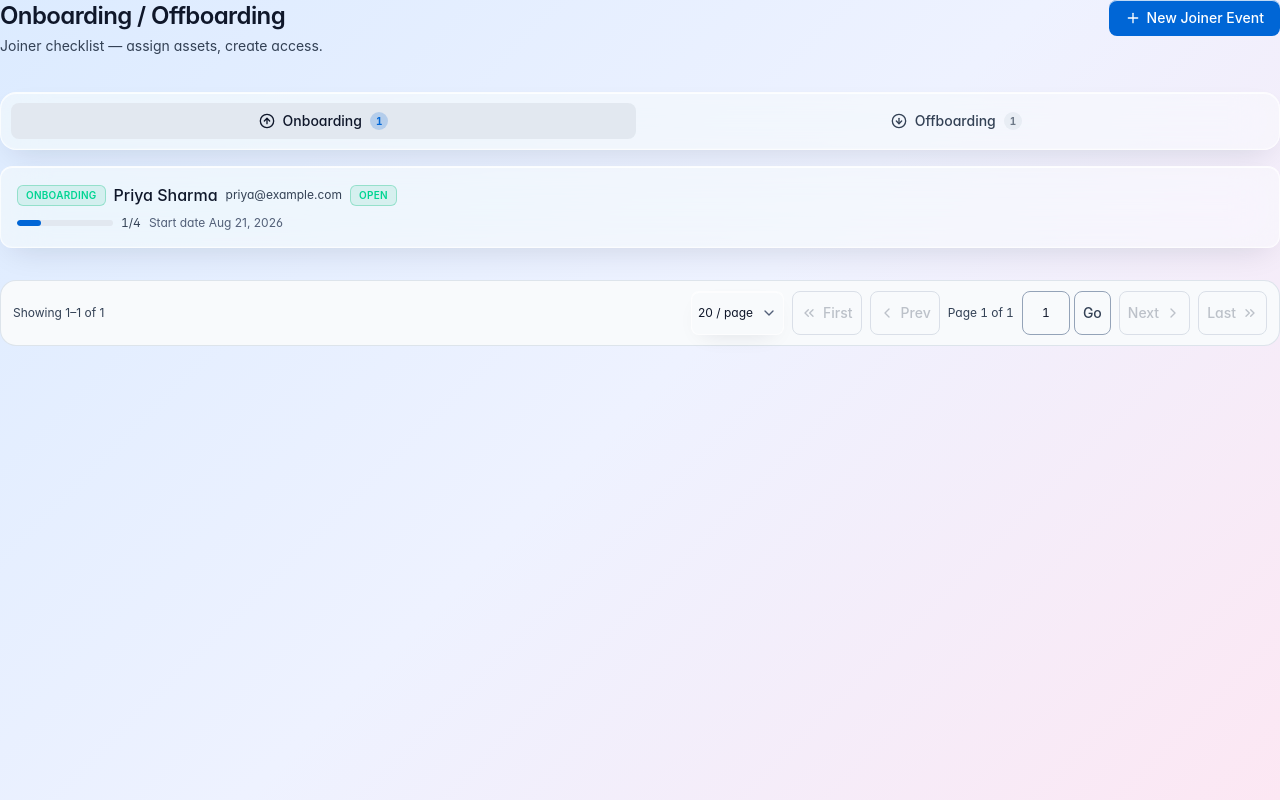
Test: Onboarding submit validation (FORM-02) › invalid email shows a format error and focuses email
The width and height of the screenshot is (1280, 800).
Expected: the button with test id "onboarding-card" is shown, [0,166,1279,248]
Step 1. Click the button "New Joiner Event" → coordinates (1194, 18), box [1109,0,1279,36]
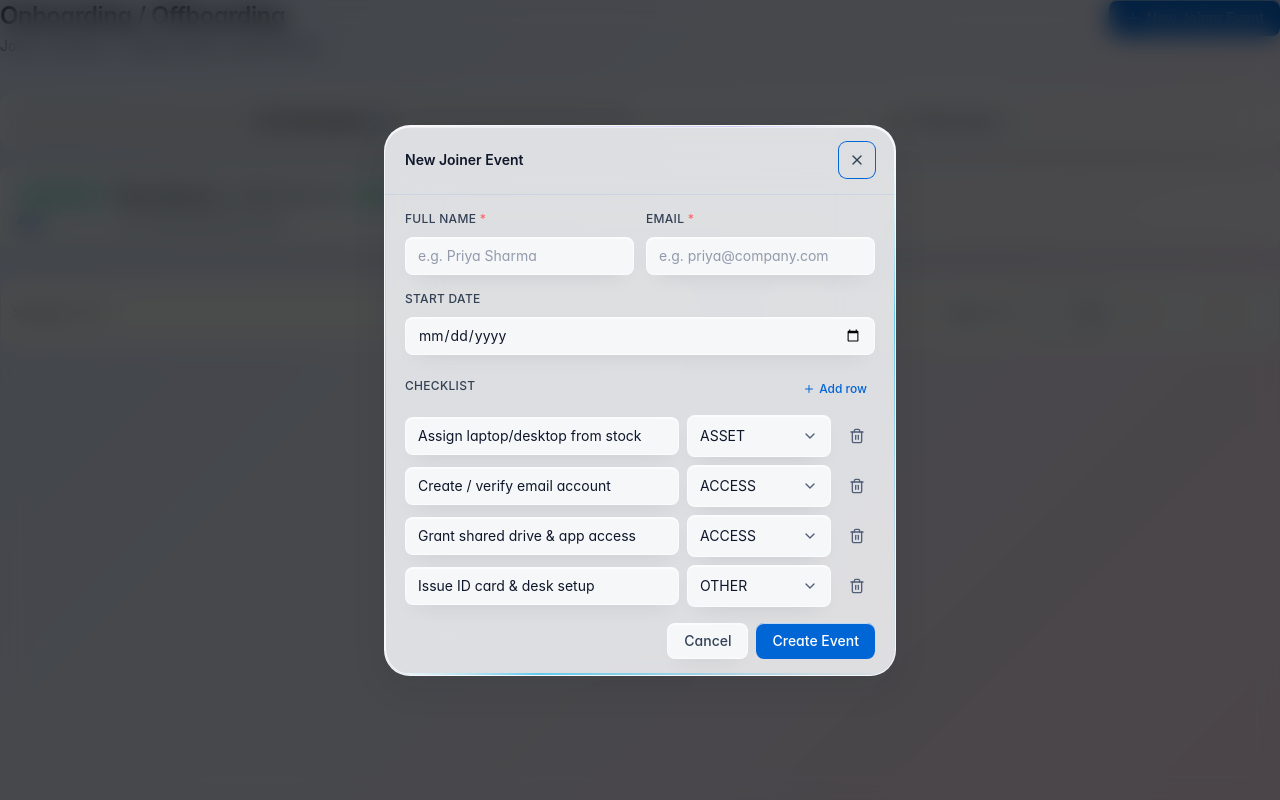
Expected: the text "Full name *" is shown, [405,210,486,226]
Step 2. Type "Priya Sharma" into the field with id "onboard-name" → coordinates (520, 256), box [405,236,634,274]
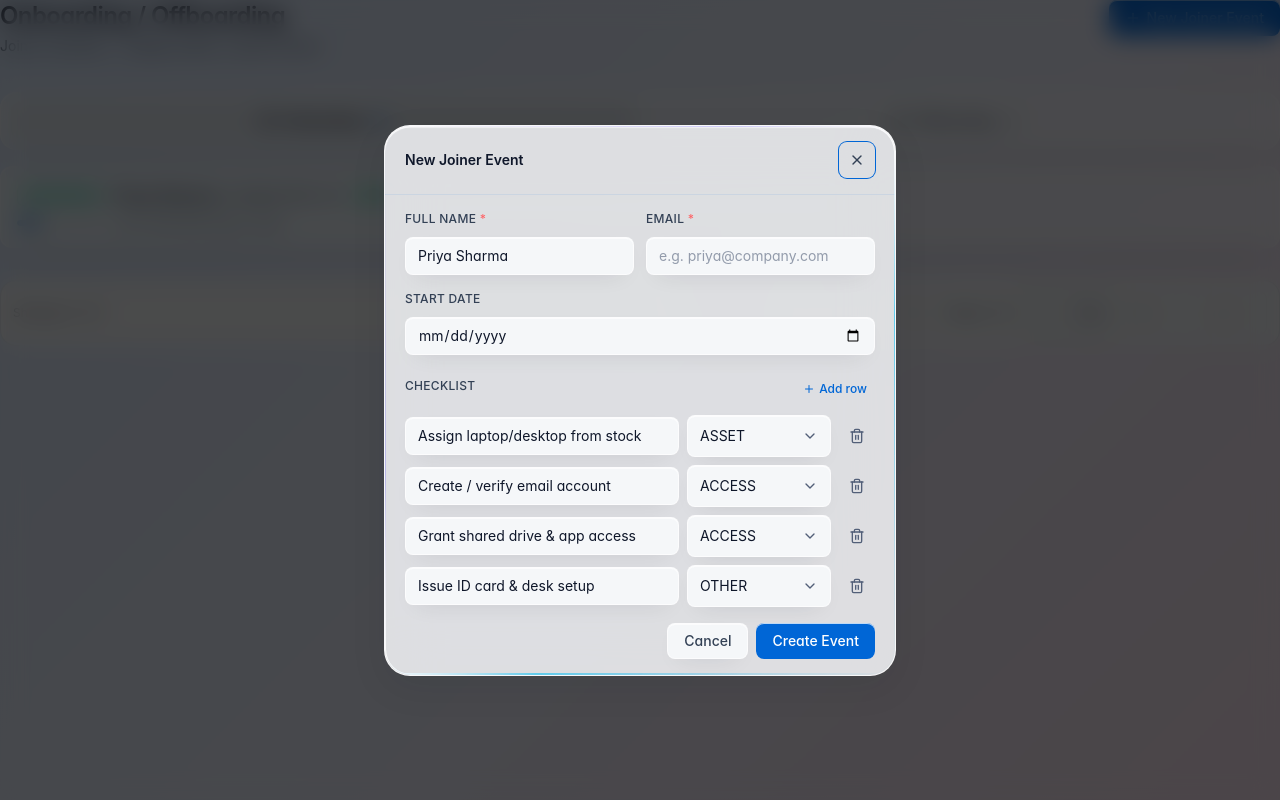
Step 3. Type "not-an-email" into the field with id "onboard-email" → coordinates (760, 256), box [646,236,875,274]
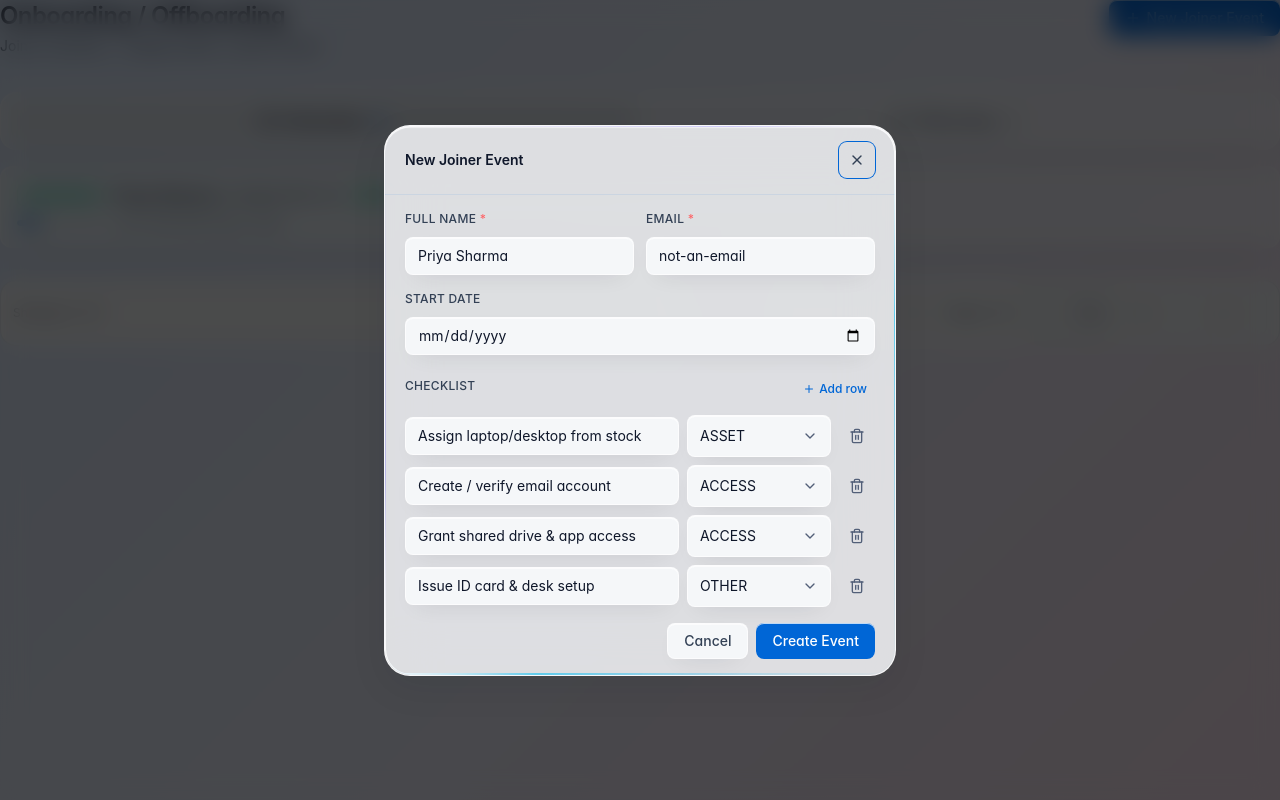
Step 4. Click the button "Create Event" → coordinates (816, 640), box [756,622,875,658]
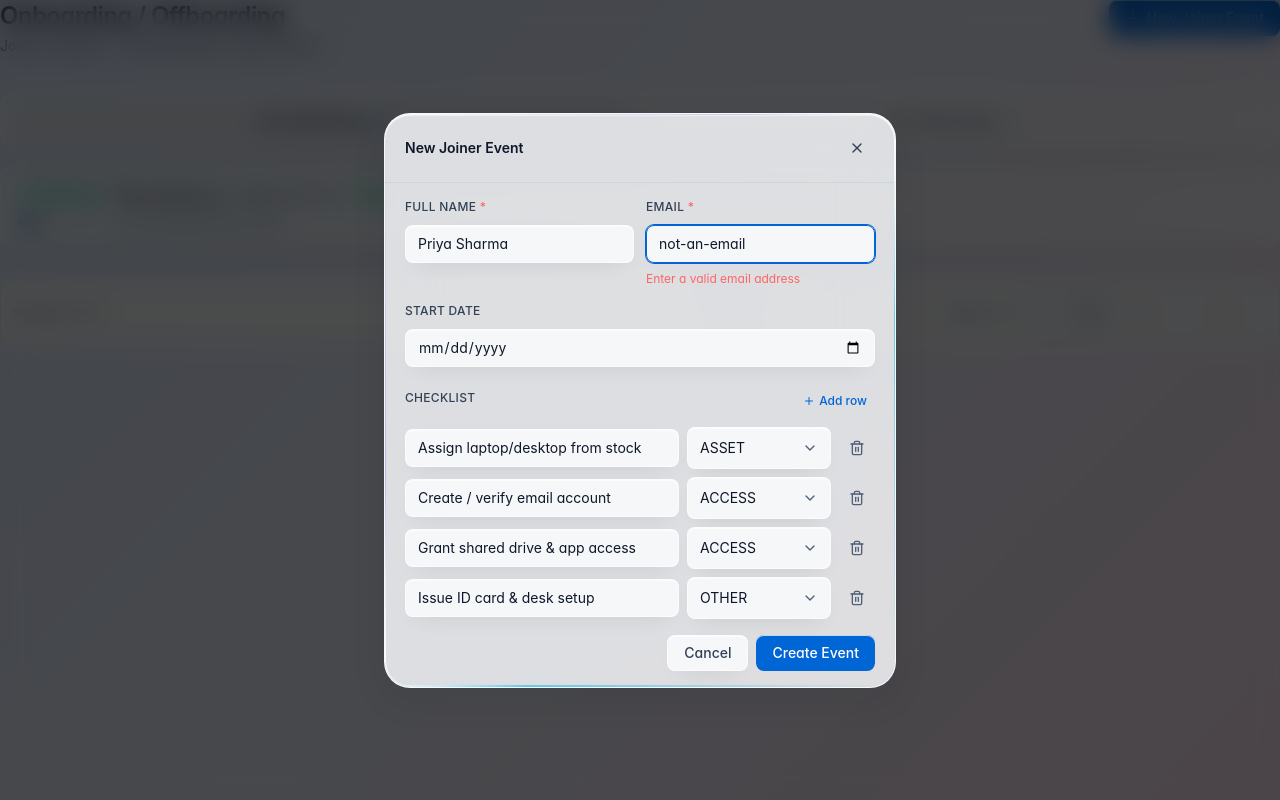
Expected: the text "Enter a valid email address" is shown, [646,270,800,286]
